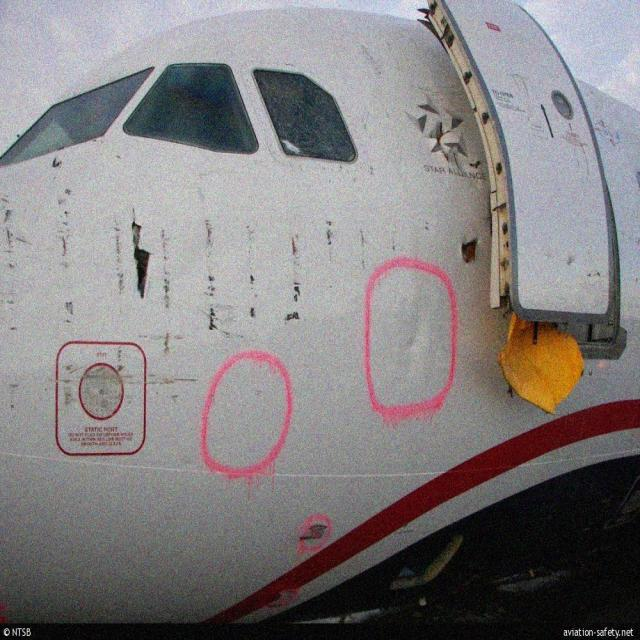crack: (124, 205, 159, 308), (452, 230, 482, 268)
dent: (396, 304, 434, 364)
